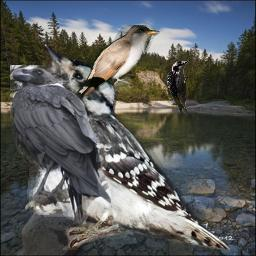Crow: (10, 65, 111, 224)
Cuckoo: (51, 25, 160, 126)
Woodpecker: (18, 39, 230, 250), (165, 57, 192, 117)
